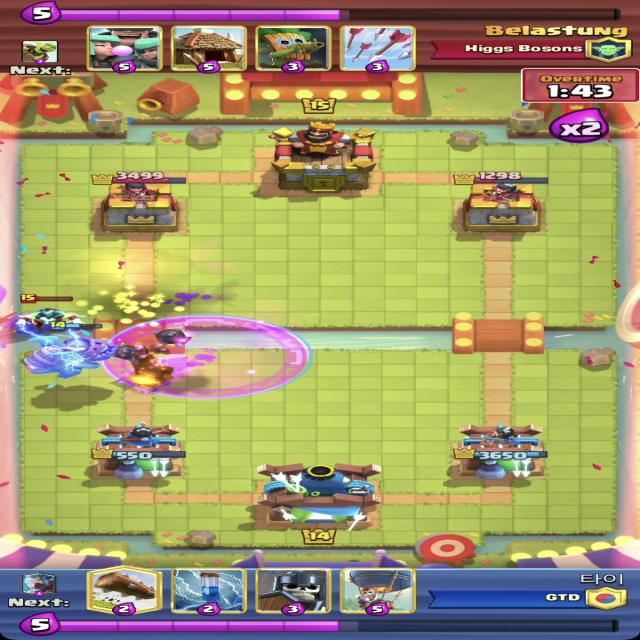Enemy-ElectroWizard: (15, 293, 85, 330)
Player-InfernoDragon: (19, 321, 118, 379)
